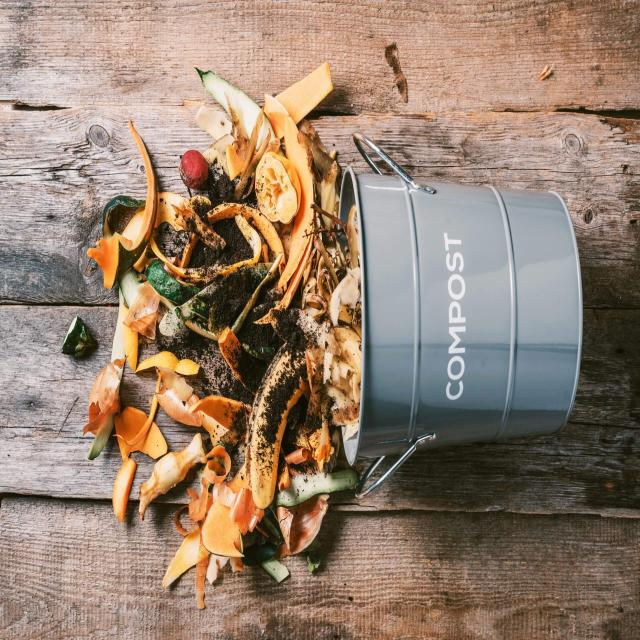Food -Biodegradable-: (69, 48, 365, 578)
